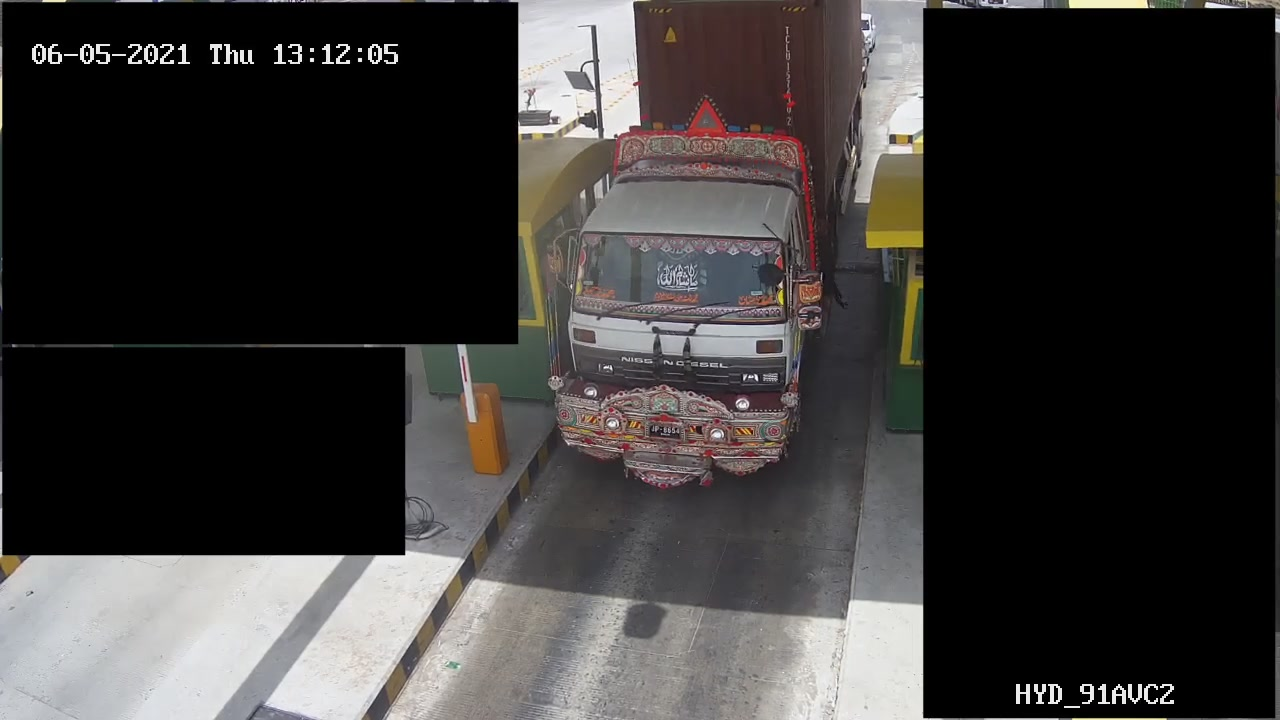F6: (543, 1, 891, 501)
